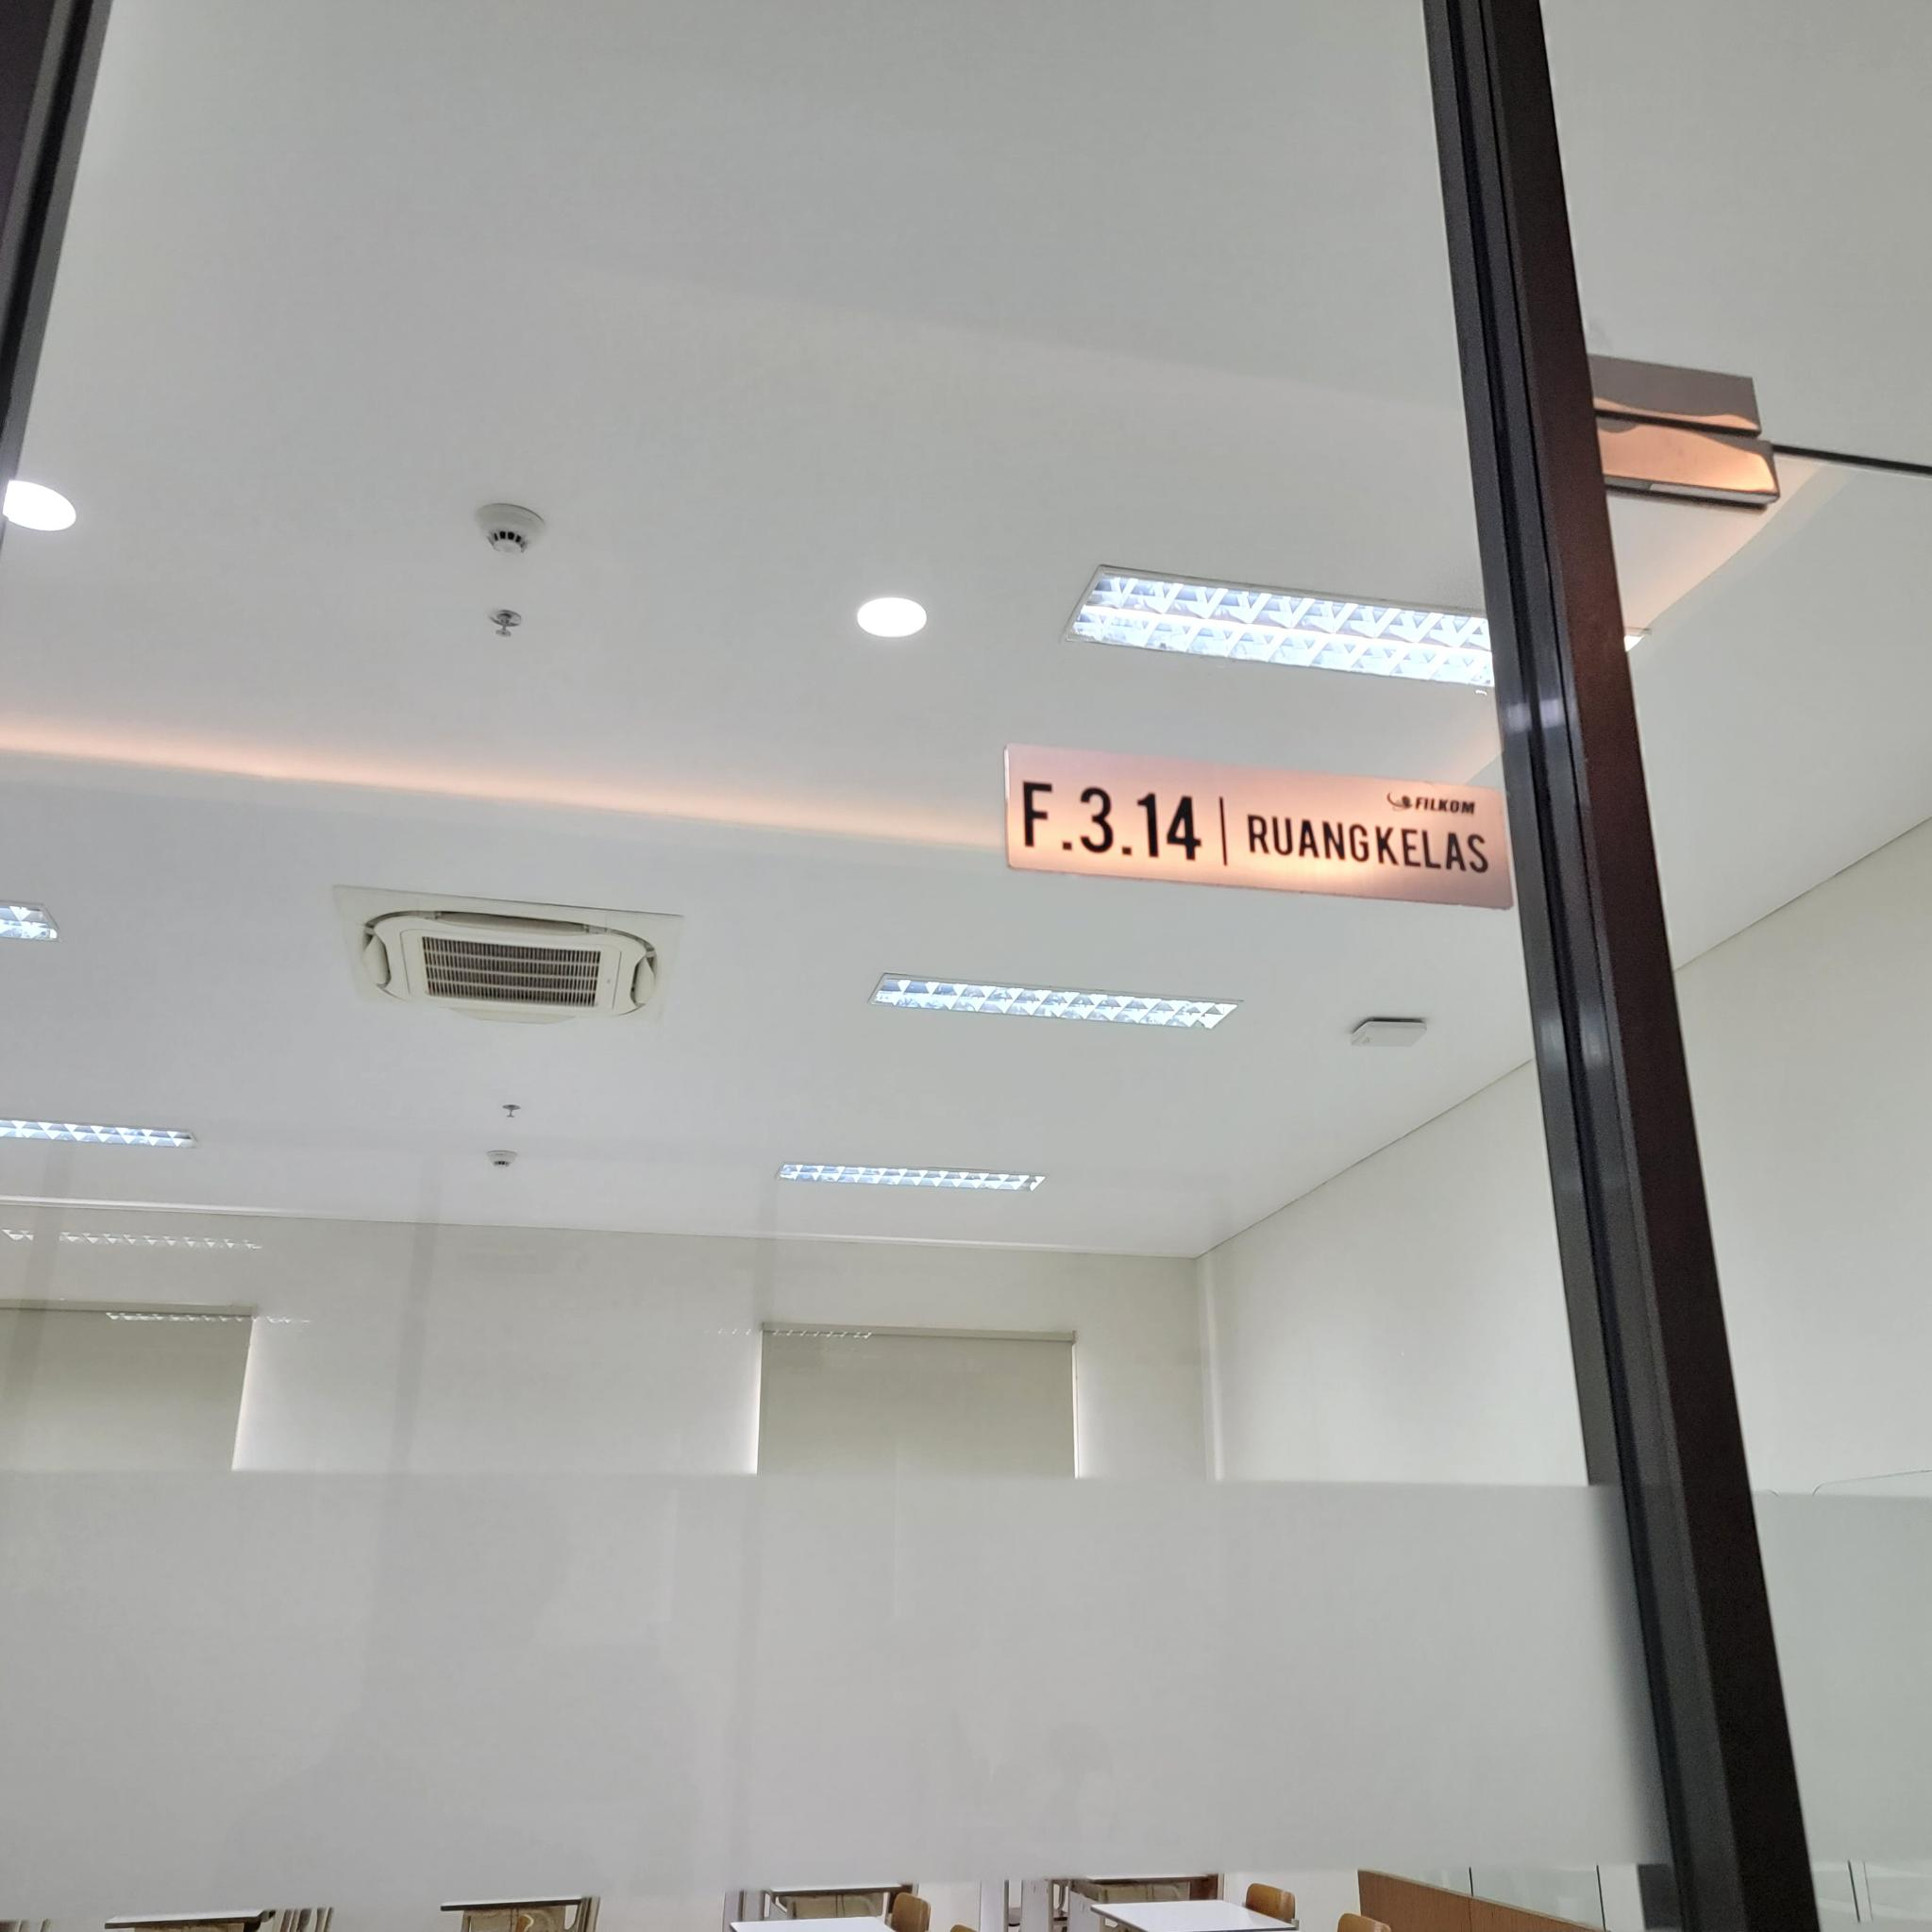plate: (1007, 743, 1511, 909)
